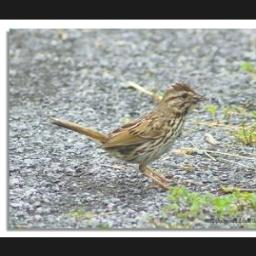Sparrow: (47, 80, 214, 192)
